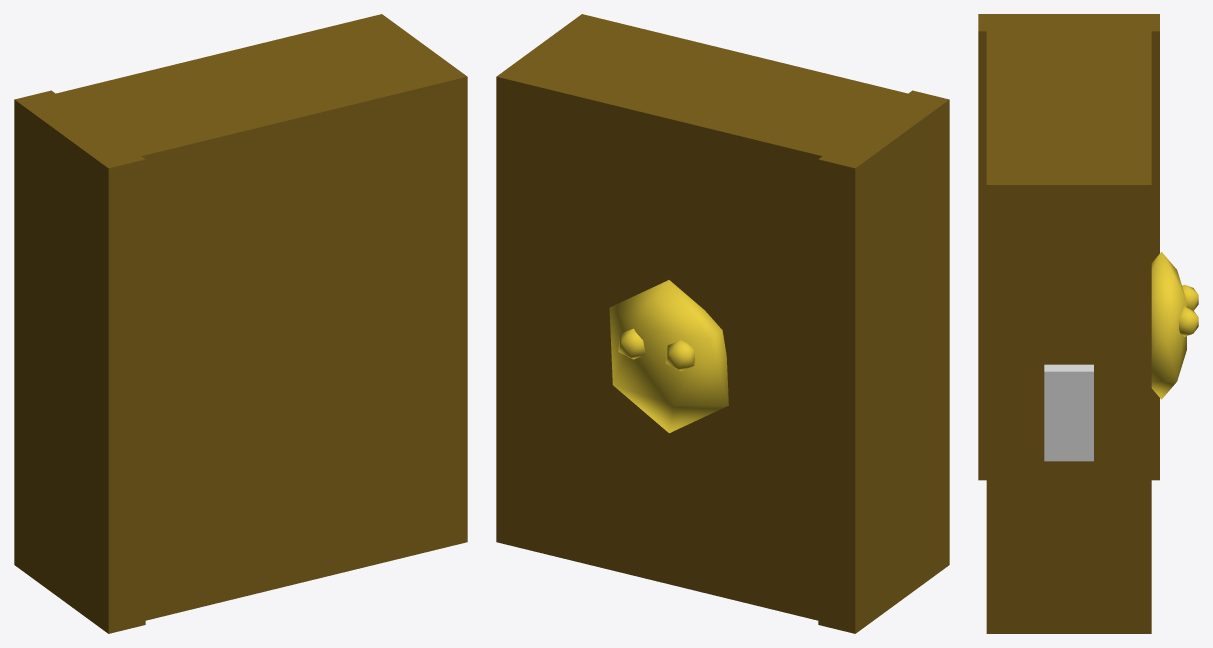
File: golden_shower.glb
3 views of the same model, side by side, from view 1: azimuth 30°, elevation 25°; view 2: azimuth 150°, elevation 25°; view 3: azimuth 270°, elevation 25° (orthographic). The views are drawn at different scales.
Parts seen in each view (by area): view 1: golden_shower_v0; view 2: golden_shower_v0; view 3: golden_shower_v0.
Part boxes in pixels (left/top/right/bottom): golden_shower_v0: left=14, top=14, right=467, bottom=633; golden_shower_v0: left=496, top=14, right=949, bottom=633; golden_shower_v0: left=978, top=14, right=1198, bottom=633.
Bounding box in the file's own units: 0.255 × 0.3 × 0.1335.
